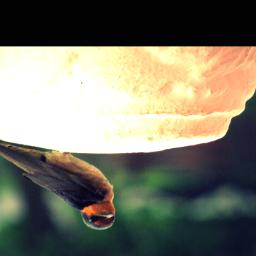Swallow: (0, 129, 118, 233)
